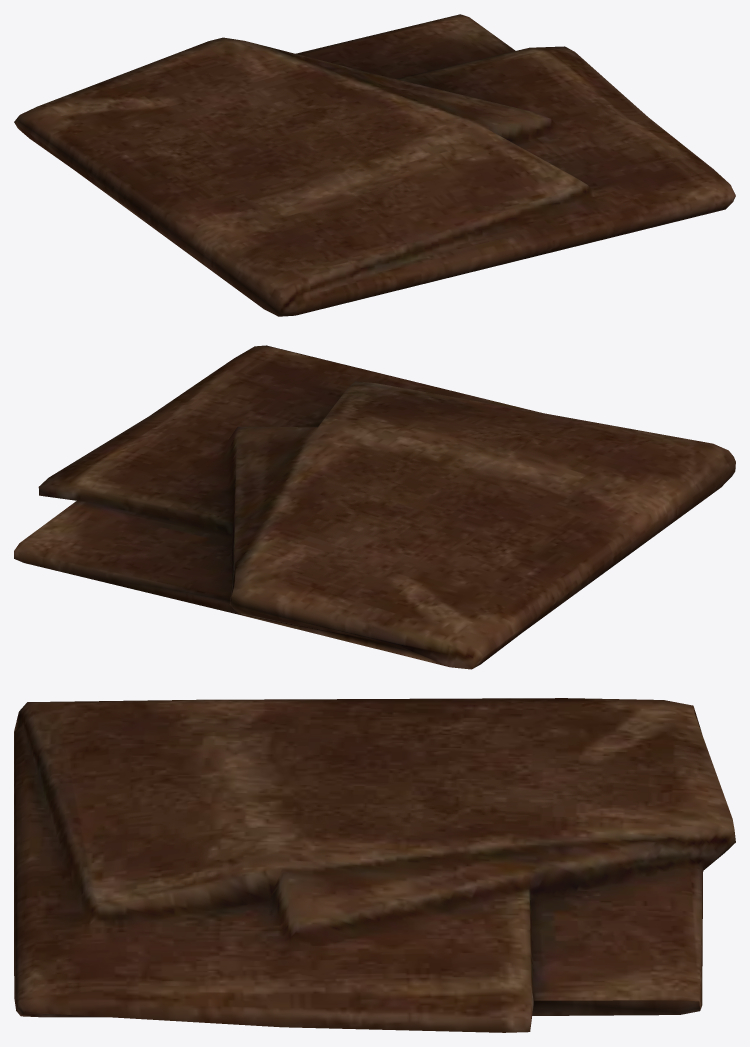
File: leather.worldmodel.glb
3 views of the same model, one above another, from view 1: azimuth 30°, elevation 25°; view 2: azimuth 150°, elevation 25°; view 3: azimuth 270°, elevation 25° (orthographic). The views are drawn at different scales.
Parts seen in each view (by area): view 1: cloth_LOD0; view 2: cloth_LOD0; view 3: cloth_LOD0.
Boxes of the visible parts, <box> form: cloth_LOD0: <box>14,14,735,316</box>; cloth_LOD0: <box>14,345,735,669</box>; cloth_LOD0: <box>14,698,735,1032</box>.
Size of the model in its own units: 0.4965 by 0.0474 by 0.4832.
Materials: 1 (1 with a texture image).
